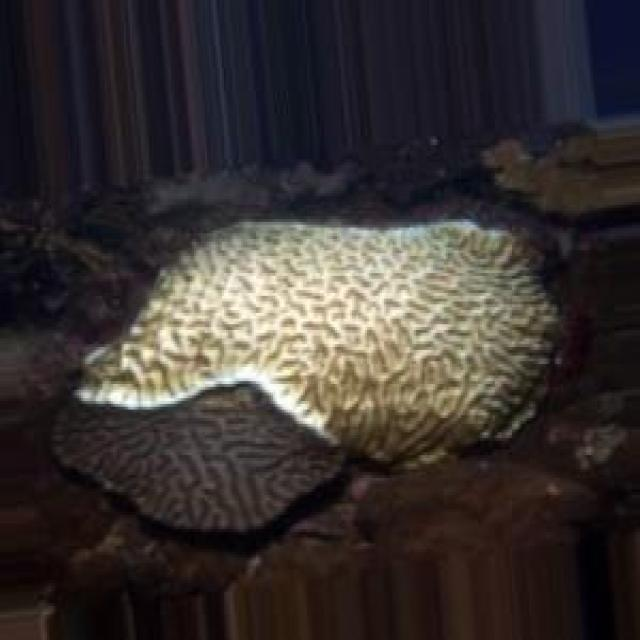Bleached: (72, 214, 562, 464), (48, 376, 349, 529)
